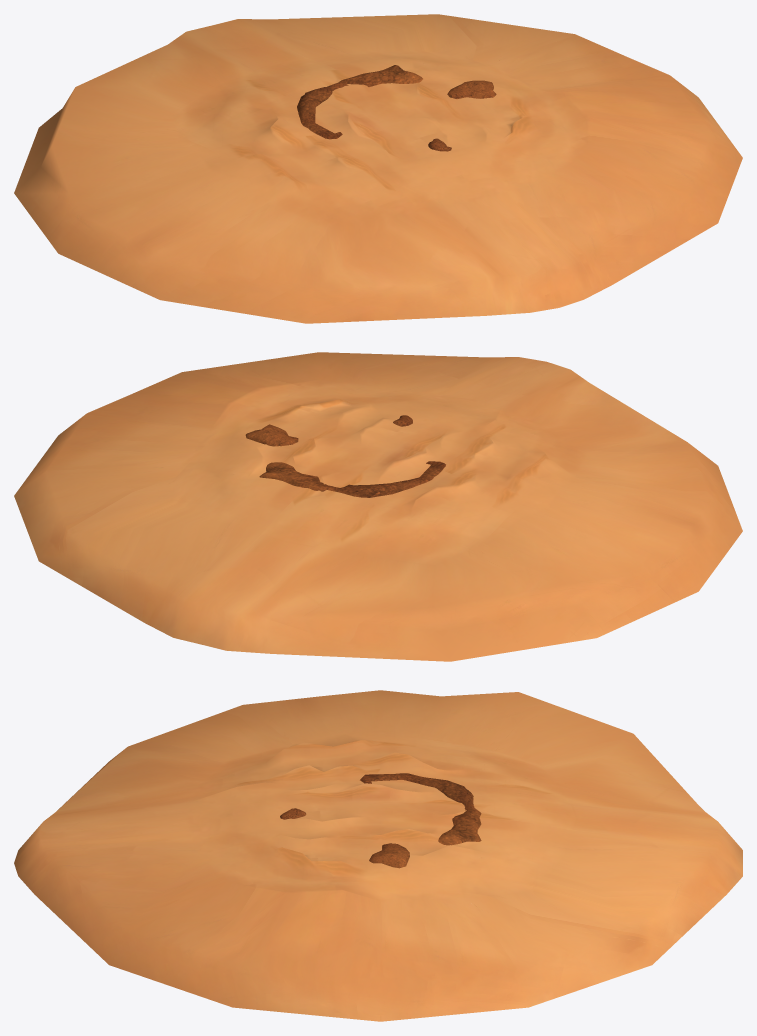
Rendered from field.fbx.
3 renders of one model, top to bottom at view 1: azimuth 30°, elevation 25°; view 2: azimuth 150°, elevation 25°; view 3: azimuth 270°, elevation 25°, orthographic.
Visible parts, largest first — view 1: polySurface2; view 2: polySurface2; view 3: polySurface2.
Part boxes in pixels (left/top/right/bottom): polySurface2: left=14, top=14, right=742, bottom=323; polySurface2: left=14, top=352, right=742, bottom=661; polySurface2: left=14, top=690, right=742, bottom=1021.
Bounding box in the file's own units: 141 × 13.16 × 137.
